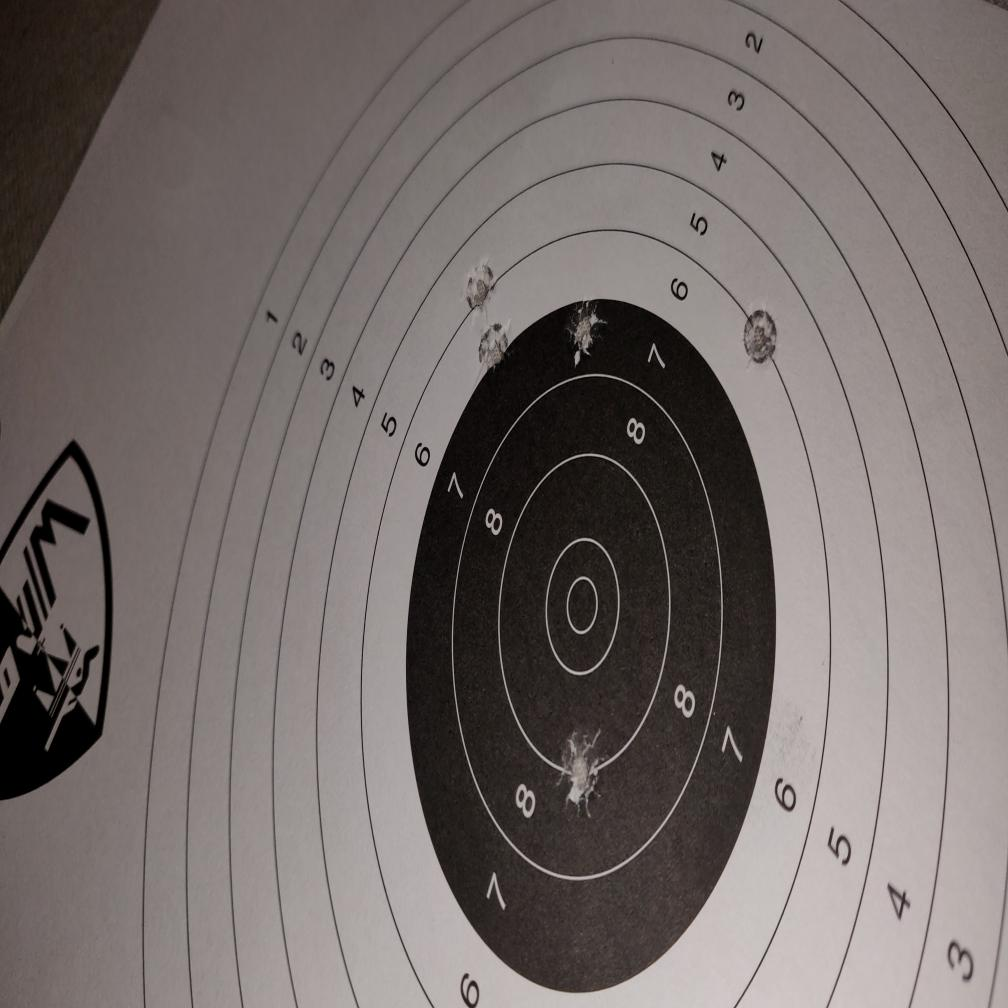6: (744, 300, 779, 373), (464, 260, 501, 320)
7: (566, 290, 599, 367), (476, 318, 511, 376)
9: (558, 723, 601, 814)
Target: (143, 0, 1008, 1008)
black_contour: (407, 295, 778, 994)
